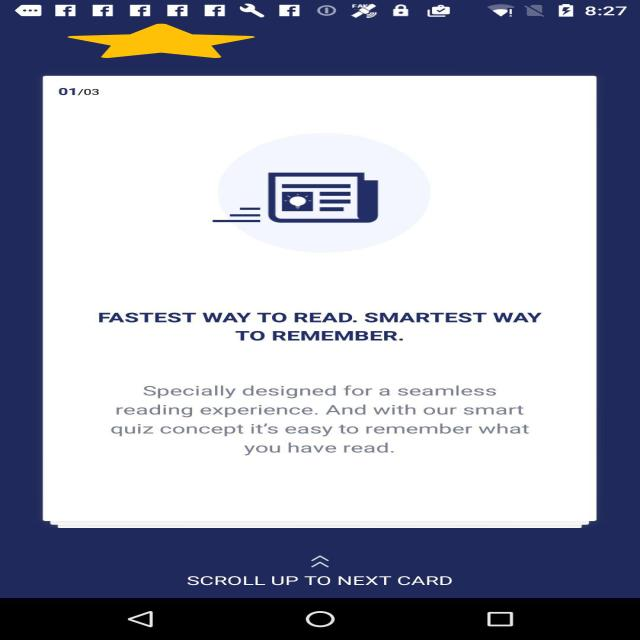forced continuity: (67, 24, 255, 58)
